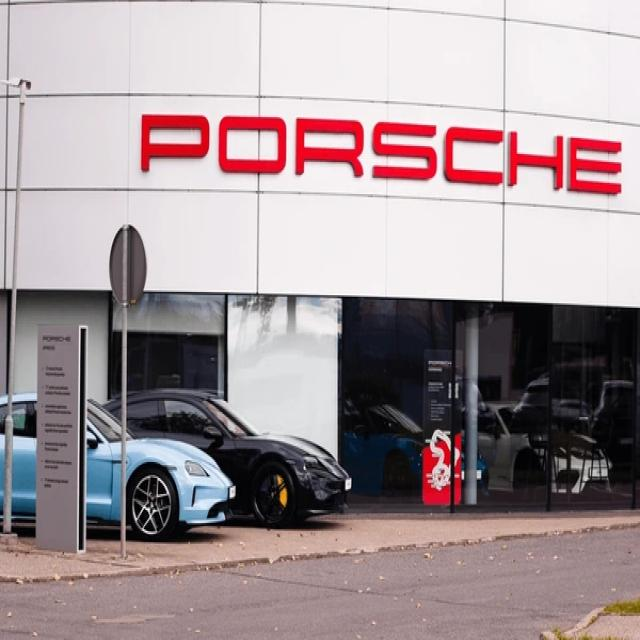porsche: (132, 110, 620, 186)
